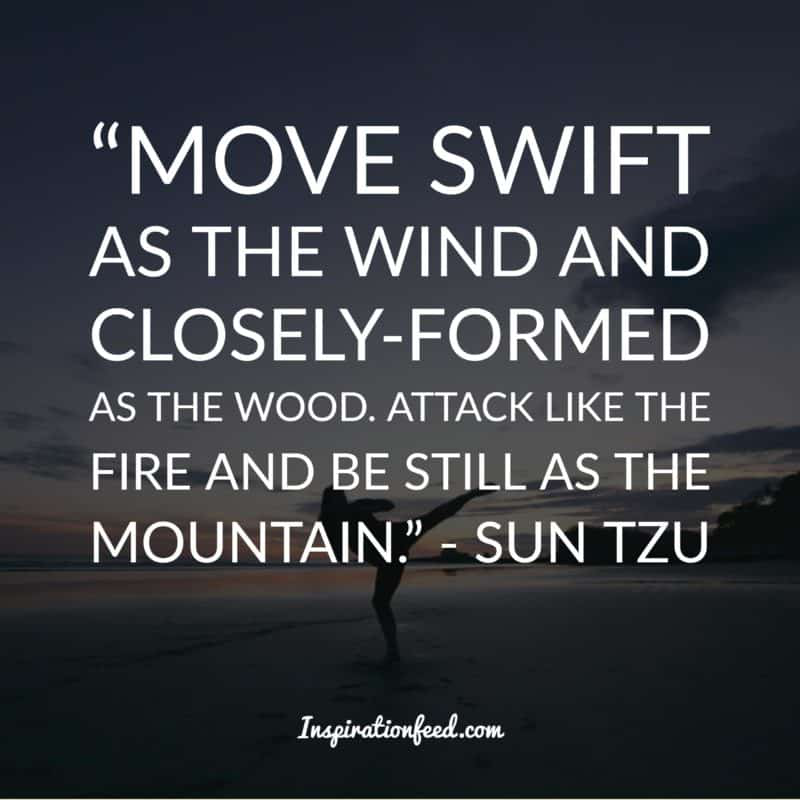latin: (85, 220, 713, 367), (85, 447, 713, 568), (127, 118, 713, 204), (85, 388, 713, 437)
